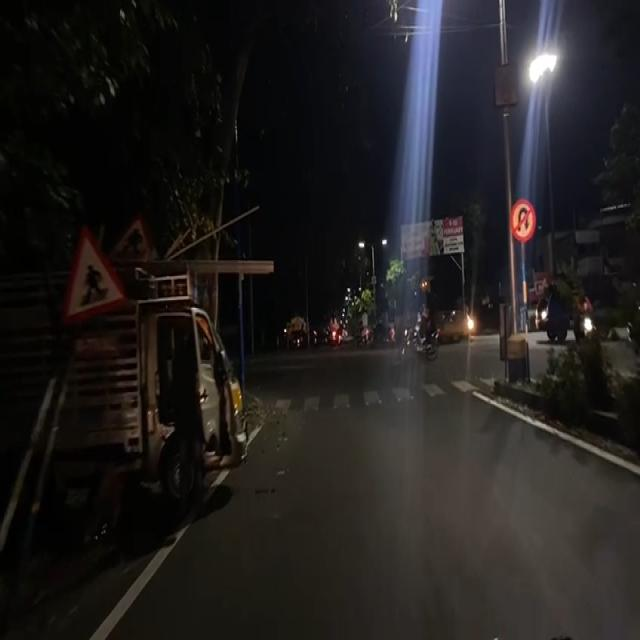bien_cam: (66, 226, 128, 329), (508, 193, 536, 245)
